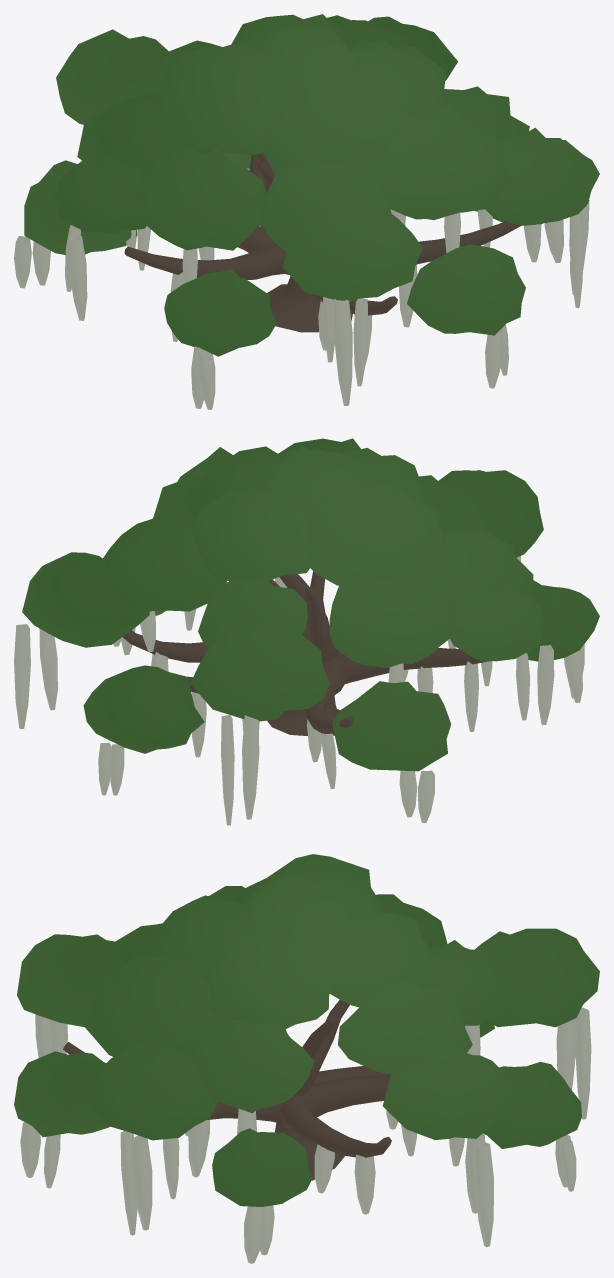
Rendered from Blender_LiveOakMoss_2.glb.
3 views of the same model, one above another, from view 1: azimuth 30°, elevation 25°; view 2: azimuth 150°, elevation 25°; view 3: azimuth 270°, elevation 25° (orthographic). The views are drawn at different scales.
Parts seen in each view (by area): view 1: Blender_LiveOakMoss_2; view 2: Blender_LiveOakMoss_2; view 3: Blender_LiveOakMoss_2.
Part boxes in pixels (<box>): Blender_LiveOakMoss_2: <box>14,14,599,409</box>; Blender_LiveOakMoss_2: <box>14,438,599,825</box>; Blender_LiveOakMoss_2: <box>14,854,599,1263</box>.
Size of the model in its own units: 25.64 by 14.29 by 27.02.
